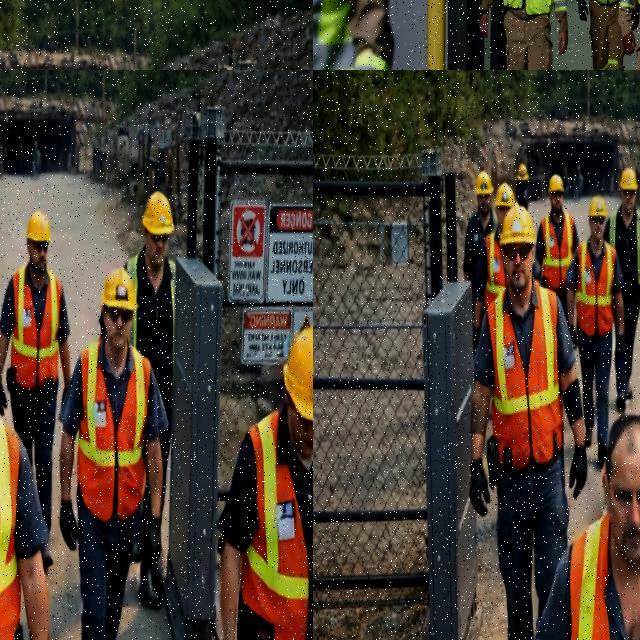Vest: (241, 411, 312, 639), (487, 281, 562, 469), (77, 338, 150, 522), (11, 266, 60, 389), (313, 0, 387, 69), (569, 515, 609, 639), (0, 421, 19, 639), (575, 241, 615, 337), (541, 213, 573, 290), (484, 232, 505, 310), (503, 0, 552, 15), (635, 212, 639, 286), (595, 0, 618, 5), (638, 0, 640, 4)
Worker: (469, 205, 586, 639), (59, 267, 167, 639), (218, 326, 312, 639), (535, 416, 639, 639), (0, 211, 70, 530), (566, 196, 624, 467), (125, 190, 175, 500), (0, 420, 48, 639), (604, 168, 639, 410), (473, 183, 514, 351), (535, 175, 578, 311), (313, 0, 392, 69), (502, 0, 567, 69), (576, 0, 622, 69), (618, 0, 639, 69)
helmet: (283, 326, 313, 422), (102, 267, 136, 311), (500, 204, 535, 245), (142, 190, 173, 236), (26, 211, 49, 242), (494, 183, 514, 207), (619, 168, 637, 191), (475, 171, 492, 195), (588, 196, 606, 218), (548, 175, 564, 193), (516, 163, 528, 181)
